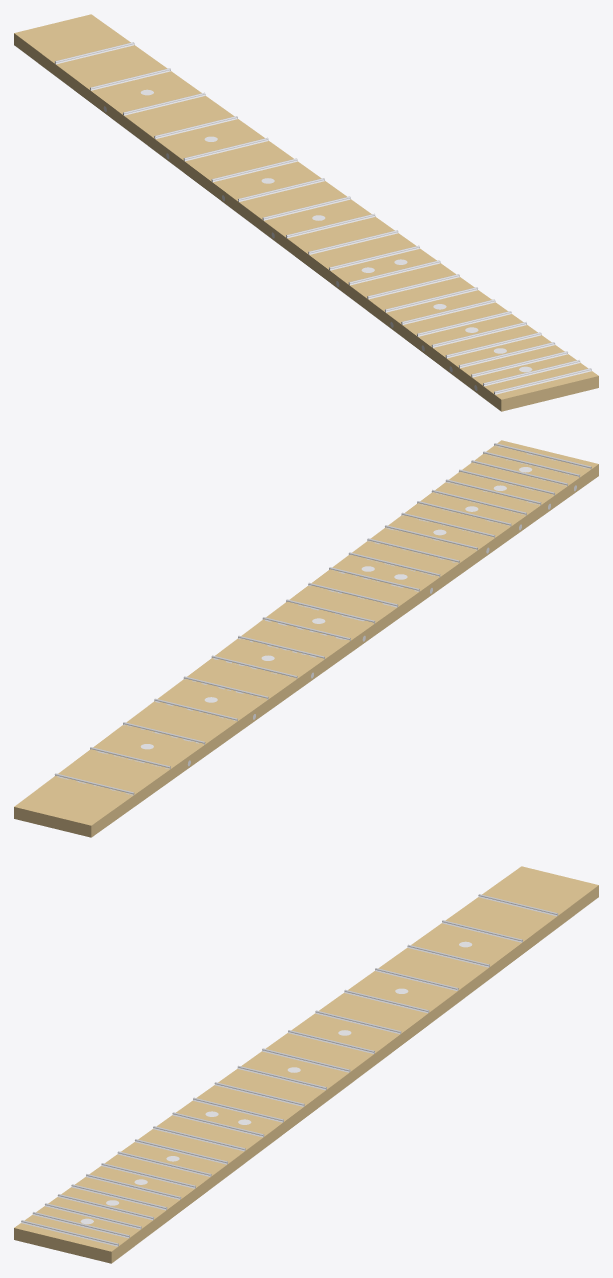
Rendered from fretboard_strat (1).glb.
3 views of the same model, one above another, from view 1: azimuth 30°, elevation 25°; view 2: azimuth 150°, elevation 25°; view 3: azimuth 330°, elevation 25° (orthographic).
Parts seen in each view (by area): view 1: Fretboard, Frets, Inlays; view 2: Fretboard, Frets, Inlays; view 3: Fretboard, Frets, Inlays.
Part boxes in pixels (<box>): Fretboard: <box>14,14,598,411</box>; Frets: <box>54,42,591,394</box>; Inlays: <box>103,89,532,390</box>; Fretboard: <box>14,440,598,837</box>; Frets: <box>54,443,591,795</box>; Inlays: <box>140,467,576,766</box>; Fretboard: <box>14,866,598,1263</box>; Frets: <box>21,894,558,1246</box>; Inlays: <box>80,941,472,1224</box>.
Size of the model in its own units: 0.0545 by 0.00775 by 0.4767.
